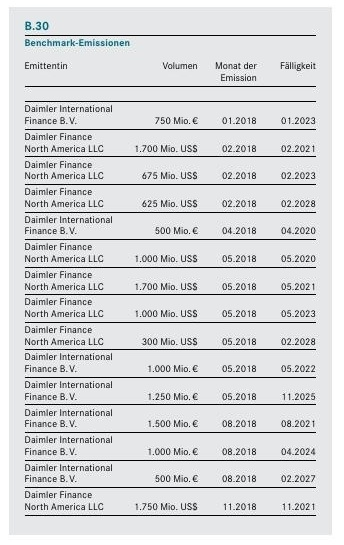table: (0, 0, 344, 545)
